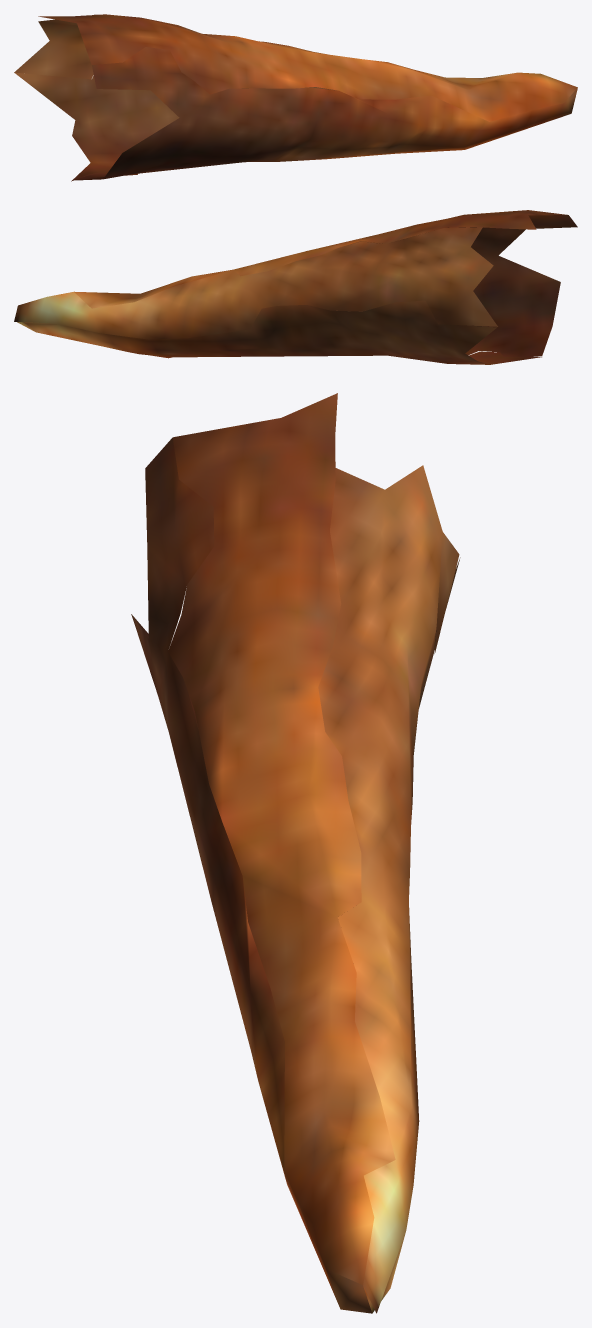
The model's file is Triceratops_Horn.fbx.
3 renders of one model, top to bottom at view 1: azimuth 30°, elevation 25°; view 2: azimuth 150°, elevation 25°; view 3: azimuth 270°, elevation 25°, orthographic. The views are drawn at different scales.
Visible parts, largest first — view 1: Triceratops_Horn; view 2: Triceratops_Horn; view 3: Triceratops_Horn.
Part boxes in pixels (box(x1,y1,x2,y2)): Triceratops_Horn: box(14, 14, 577, 181); Triceratops_Horn: box(14, 210, 577, 364); Triceratops_Horn: box(131, 393, 460, 1313).
Bounding box in the file's own units: 0.0993 × 0.0406 × 0.0276.
Materials: 1 (1 with a texture image).
